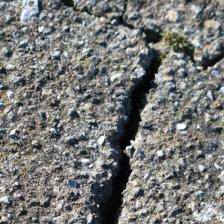Crack: (0, 112, 167, 175), (62, 125, 195, 165)
